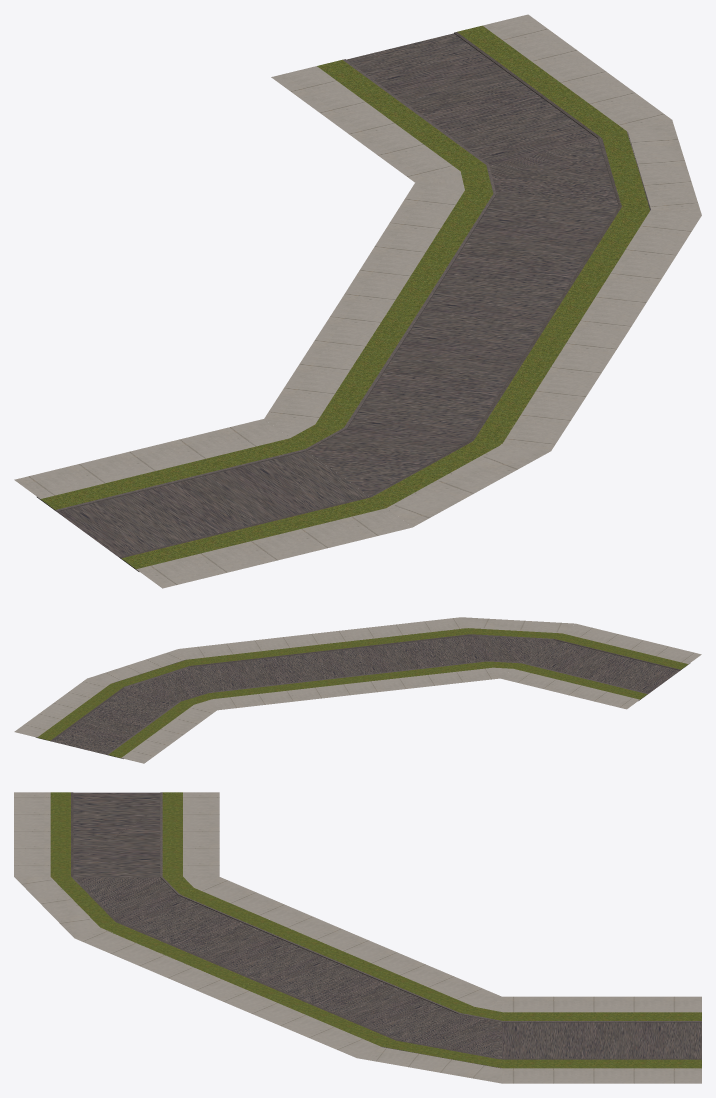
Rendered from TurnRoadNew.fbx.
3 renders of one model, top to bottom at view 1: azimuth 30°, elevation 25°; view 2: azimuth 150°, elevation 25°; view 3: azimuth 270°, elevation 25°, orthographic. The views are drawn at different scales.
Visible parts, largest first — view 1: SM_Road_01_1, SM_Road_01, SM_Road_01_2, SM_Road_01_3; view 2: SM_Road_01_1, SM_Road_01, SM_Road_01_3, SM_Road_01_2; view 3: SM_Road_01_1, SM_Road_01, SM_Road_01_3, SM_Road_01_2.
Boxes of the visible parts, box(x1,y1,x2,y2) form: SM_Road_01_1: box(264, 300, 626, 527); SM_Road_01: box(341, 120, 701, 332); SM_Road_01_2: box(14, 419, 412, 588); SM_Road_01_3: box(271, 14, 672, 182); SM_Road_01_1: box(319, 617, 574, 694); SM_Road_01: box(87, 633, 357, 710); SM_Road_01_3: box(14, 678, 216, 763); SM_Road_01_2: box(500, 623, 701, 709); SM_Road_01_1: box(14, 876, 360, 998); SM_Road_01: box(216, 937, 502, 1083); SM_Road_01_3: box(502, 996, 701, 1083); SM_Road_01_2: box(14, 792, 219, 877).
Size of the model in its own units: 21791 by 19.14 by 21741.
